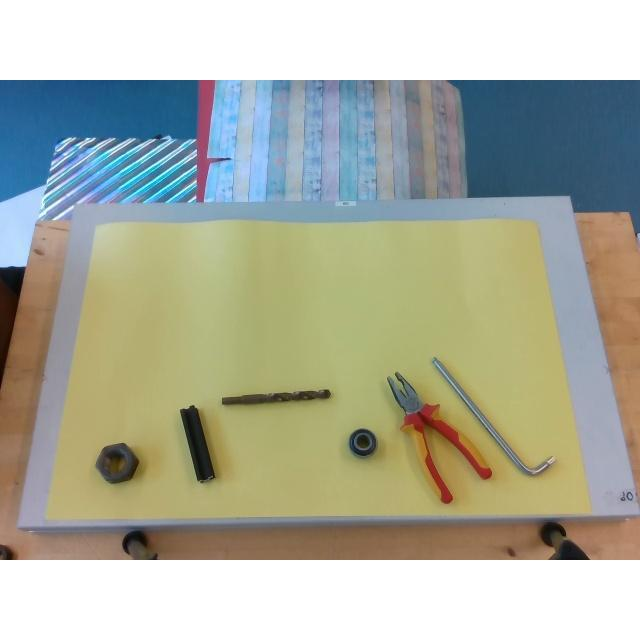AllenKey: (432, 356, 556, 476)
Bearing2: (348, 428, 377, 457)
Drill: (222, 388, 331, 404)
F20_20_B: (178, 406, 214, 482)
M30: (94, 443, 138, 483)
